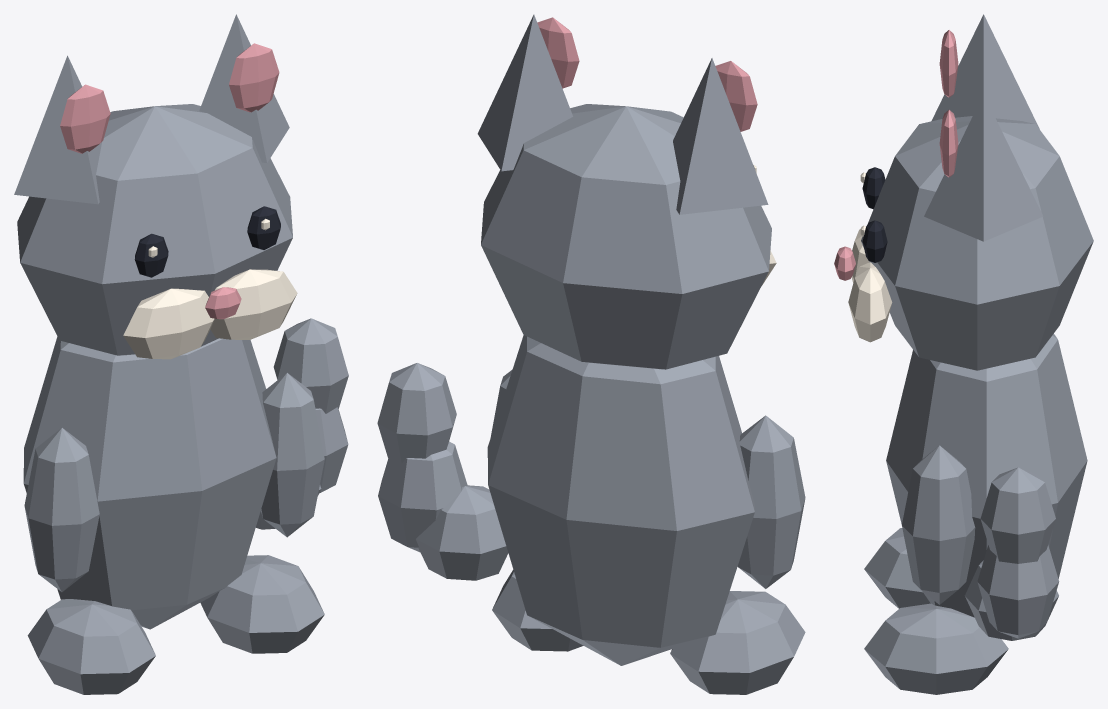
Rendered from cat.obj.
3 renders of one model, left to right at view 1: azimuth 30°, elevation 25°; view 2: azimuth 150°, elevation 25°; view 3: azimuth 270°, elevation 25°, orthographic. The views are drawn at different scales.
Visible parts, largest first — view 1: stage_1_part_0, stage_2_part_1, stage_5_part_13, stage_5_part_15, stage_5_part_14, stage_5_part_16, stage_3_part_2, stage_4_part_6, stage_5_part_19, stage_3_part_4, stage_4_part_7, stage_3_part_5 (+5 smaller); view 2: stage_1_part_0, stage_2_part_1, stage_5_part_13, stage_3_part_2, stage_5_part_15, stage_3_part_4, stage_5_part_17, stage_5_part_19, stage_5_part_18, stage_5_part_14, stage_3_part_5, stage_3_part_3; view 3: stage_2_part_1, stage_1_part_0, stage_5_part_14, stage_3_part_4, stage_5_part_16, stage_5_part_19, stage_5_part_18, stage_3_part_2, stage_5_part_13, stage_4_part_7, stage_5_part_17, stage_3_part_3 (+5 smaller).
Part boxes in pixels (left/top/right/bottom): stage_1_part_0: left=23, top=336, right=276, bottom=629; stage_2_part_1: left=17, top=104, right=292, bottom=355; stage_5_part_13: left=27, top=599, right=155, bottom=694; stage_5_part_15: left=24, top=428, right=99, bottom=591; stage_5_part_14: left=200, top=555, right=324, bottom=653; stage_5_part_16: left=260, top=373, right=324, bottom=537; stage_3_part_2: left=14, top=55, right=101, bottom=204; stage_4_part_6: left=123, top=288, right=214, bottom=359; stage_5_part_19: left=273, top=318, right=348, bottom=413; stage_3_part_4: left=199, top=14, right=289, bottom=162; stage_4_part_7: left=210, top=269, right=297, bottom=339; stage_3_part_5: left=229, top=43, right=279, bottom=112; stage_1_part_0: left=487, top=335, right=754, bottom=665; stage_2_part_1: left=481, top=104, right=771, bottom=369; stage_5_part_13: left=670, top=591, right=805, bottom=694; stage_3_part_2: left=673, top=58, right=768, bottom=214; stage_5_part_15: left=737, top=415, right=805, bottom=588; stage_3_part_4: left=477, top=14, right=572, bottom=171; stage_5_part_17: left=416, top=485, right=508, bottom=580; stage_5_part_19: left=377, top=363, right=456, bottom=463; stage_5_part_18: left=378, top=441, right=467, bottom=552; stage_5_part_14: left=492, top=570, right=583, bottom=651; stage_3_part_5: left=537, top=17, right=579, bottom=88; stage_3_part_3: left=715, top=61, right=757, bottom=131; stage_2_part_1: left=861, top=116, right=1093, bottom=370; stage_1_part_0: left=886, top=333, right=1087, bottom=617; stage_5_part_14: left=864, top=603, right=1008, bottom=694; stage_3_part_4: left=924, top=94, right=1043, bottom=241; stage_5_part_16: left=902, top=445, right=975, bottom=604; stage_5_part_19: left=980, top=467, right=1055, bottom=563; stage_5_part_18: left=977, top=545, right=1059, bottom=638; stage_3_part_2: left=931, top=14, right=1039, bottom=129; stage_5_part_13: left=864, top=528, right=930, bottom=608; stage_4_part_7: left=848, top=262, right=892, bottom=342; stage_5_part_17: left=965, top=560, right=1058, bottom=640; stage_3_part_3: left=939, top=30, right=958, bottom=97.
Size of the model in its own units: 1.27 by 2.09 by 0.825.
